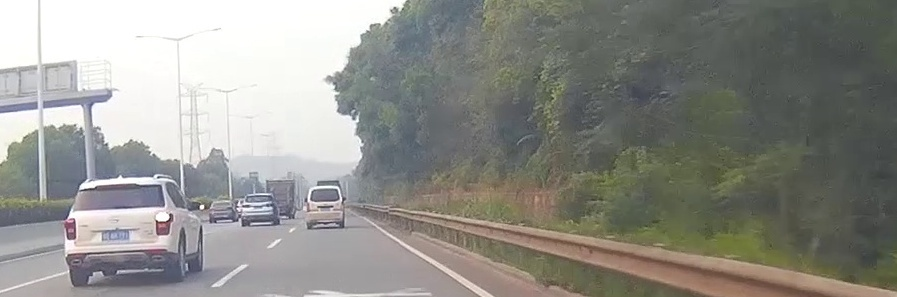L_light: (64, 218, 76, 240), (307, 203, 309, 212), (242, 205, 249, 207)
R_light: (155, 213, 173, 235), (266, 204, 272, 207), (341, 202, 343, 210)
T_light: (108, 186, 122, 188), (257, 196, 262, 197), (323, 190, 328, 191)
day-no: (306, 186, 344, 228), (241, 194, 275, 226)
day-right: (63, 179, 175, 287)
